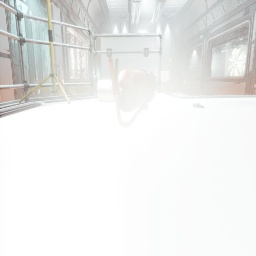0: (97, 80, 116, 102), (168, 79, 172, 81), (166, 81, 168, 81)
EmergencyPhone ,: (0, 94, 1, 101)
FireAlarm ,: (202, 66, 204, 70), (90, 68, 91, 72)
FireExtinguisher ]: (109, 58, 157, 128)
FirstAidBox ,: (161, 80, 164, 81)
SafetySwitchPanel ,: (58, 70, 65, 92), (254, 83, 256, 87)
